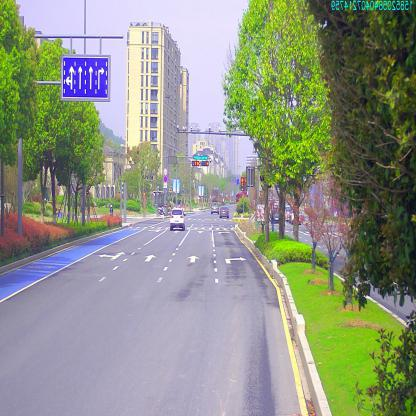traffic-light: (194, 155, 209, 159), (193, 160, 199, 166), (202, 161, 208, 165)
